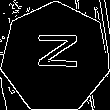N_W: (30, 37, 80, 78)
